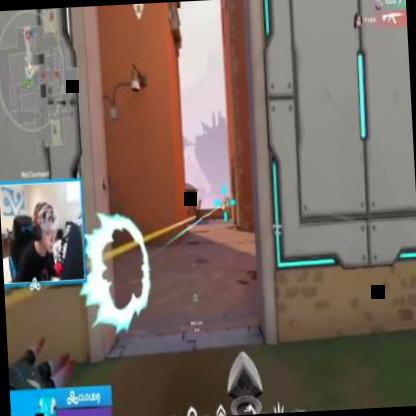enemy: (223, 199, 228, 221)
enemy_head: (223, 198, 227, 204)
